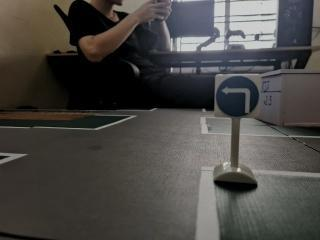left: (214, 73, 264, 119)
